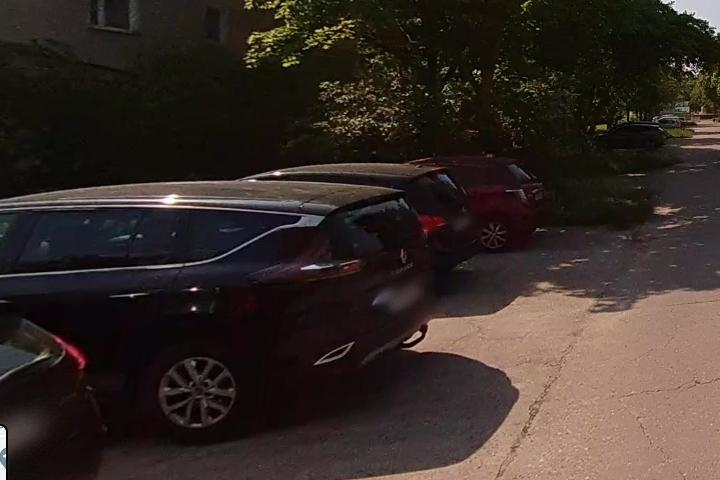vehicle: (1, 172, 444, 453), (579, 121, 668, 152)
